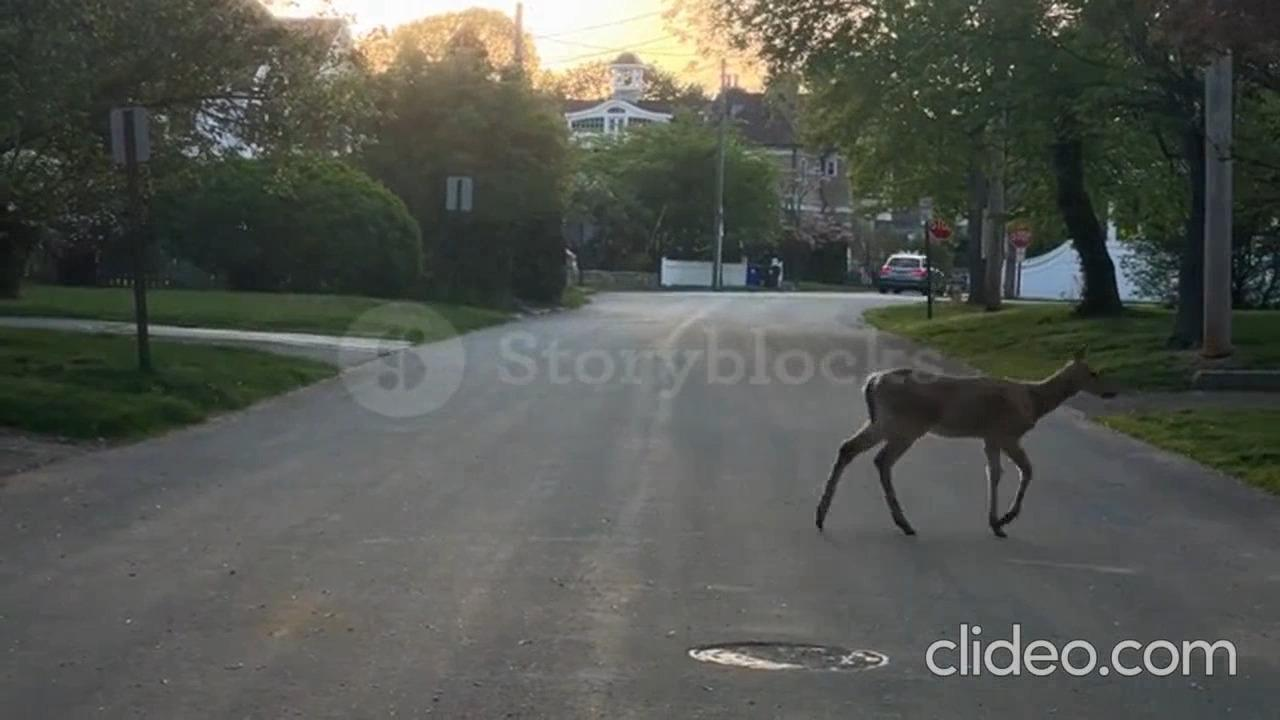deer: (816, 345, 1119, 542)
